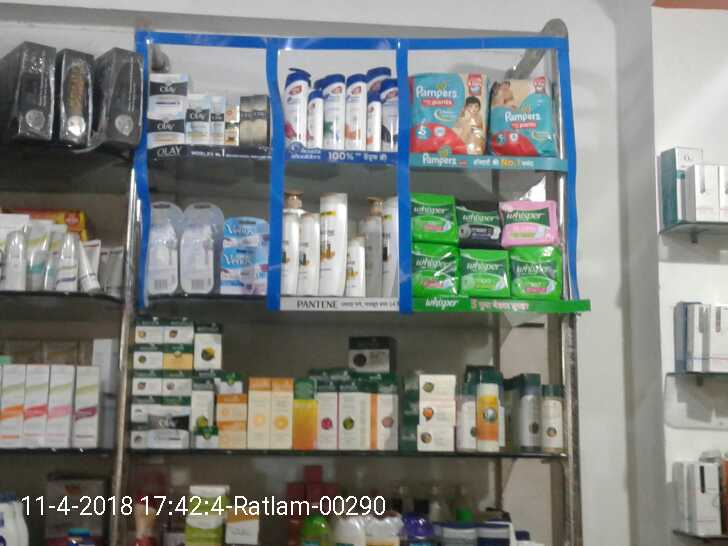venus: (221, 215, 267, 296)
